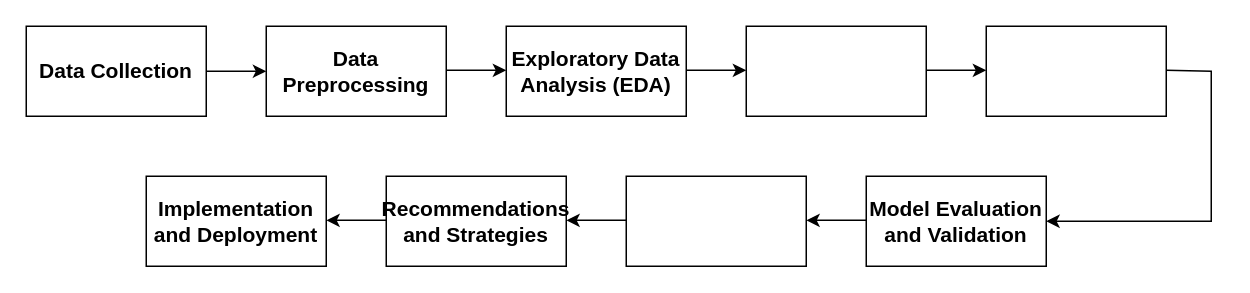
Some shapes in this 1250 by 293 pixel diagram are drawn without their labels. The shapes that lost their labels are listed below. From the top down, each one's centre as x and y in pixels, then its label:
At point 835,70: "Customer Segmentation".
At point 1075,70: "Segmentation Analysis".
At point 715,220: "Visualization".
